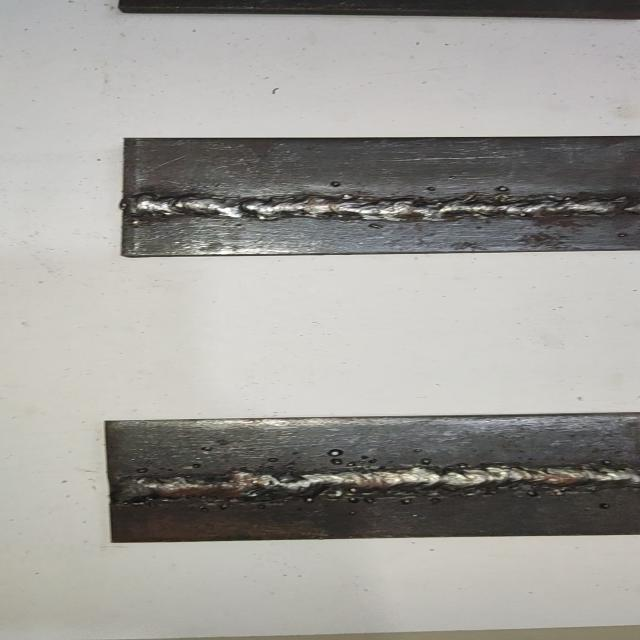Welding Line: (113, 458, 640, 506), (126, 192, 640, 222)
Workpiece: (100, 412, 640, 548), (113, 133, 640, 261)
